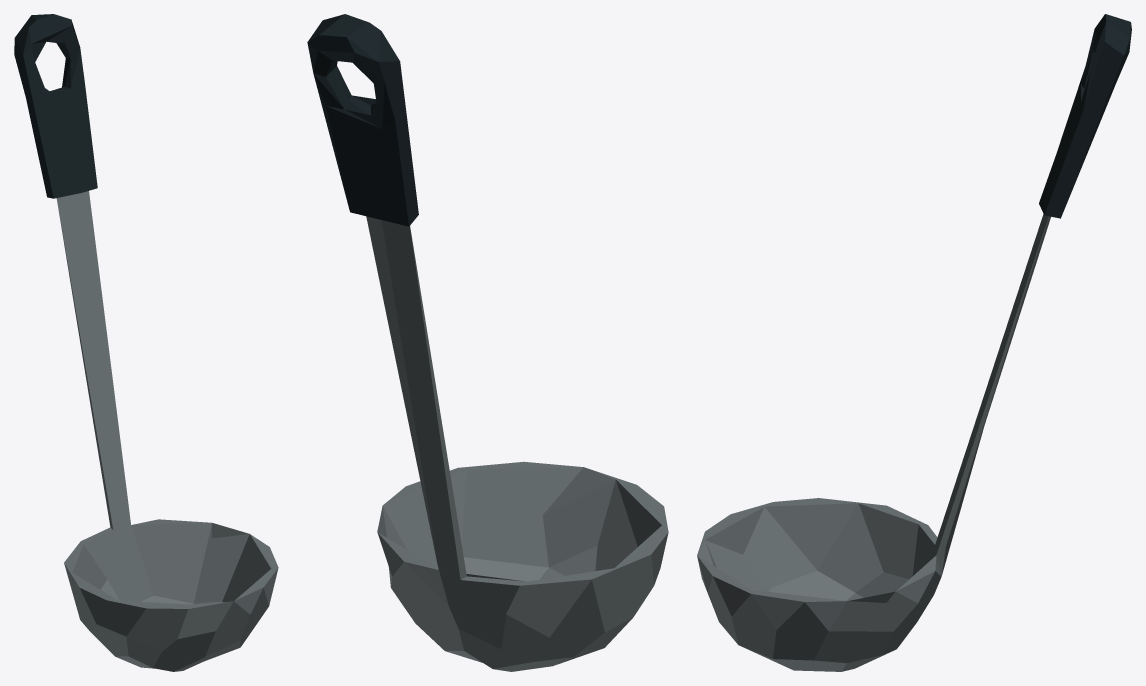
File: Ladle.fbx
3 renders of one model, left to right at view 1: azimuth 30°, elevation 25°; view 2: azimuth 150°, elevation 25°; view 3: azimuth 270°, elevation 25°, orthographic. The views are drawn at different scales.
Visible parts, largest first — view 1: LadleLowPoly; view 2: LadleLowPoly; view 3: LadleLowPoly.
Boxes of the visible parts, <box> form: LadleLowPoly: <box>14,14,278,671</box>; LadleLowPoly: <box>307,14,668,671</box>; LadleLowPoly: <box>697,14,1131,671</box>.
Size of the model in its own units: 10.19 by 29.25 by 17.97.
